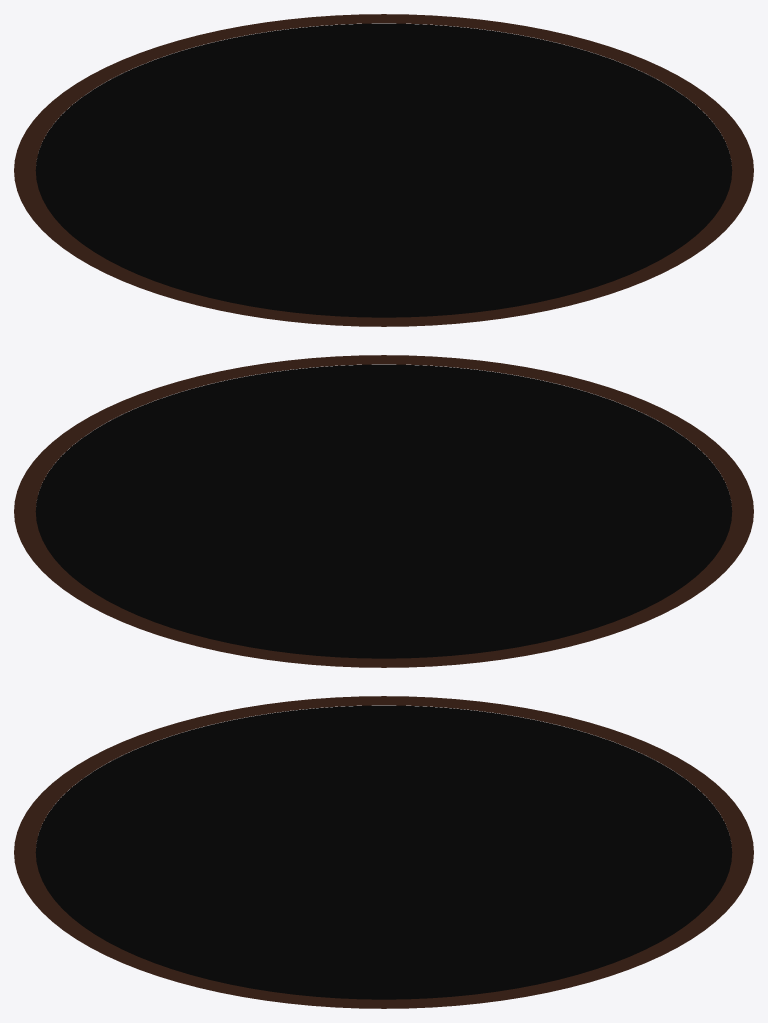
File: gargantua_shadow.glb
3 views of the same model, one above another, from view 1: azimuth 30°, elevation 25°; view 2: azimuth 150°, elevation 25°; view 3: azimuth 270°, elevation 25° (orthographic).
Parts seen in each view (by area): view 1: gargantua_shadow; view 2: gargantua_shadow; view 3: gargantua_shadow.
Boxes of the visible parts, x1,y1,x2,y2 form: gargantua_shadow: (14, 14, 753, 326); gargantua_shadow: (14, 355, 753, 667); gargantua_shadow: (14, 696, 753, 1008).
Bounding box in the file's own units: 3.4 × 0.001 × 3.4.
